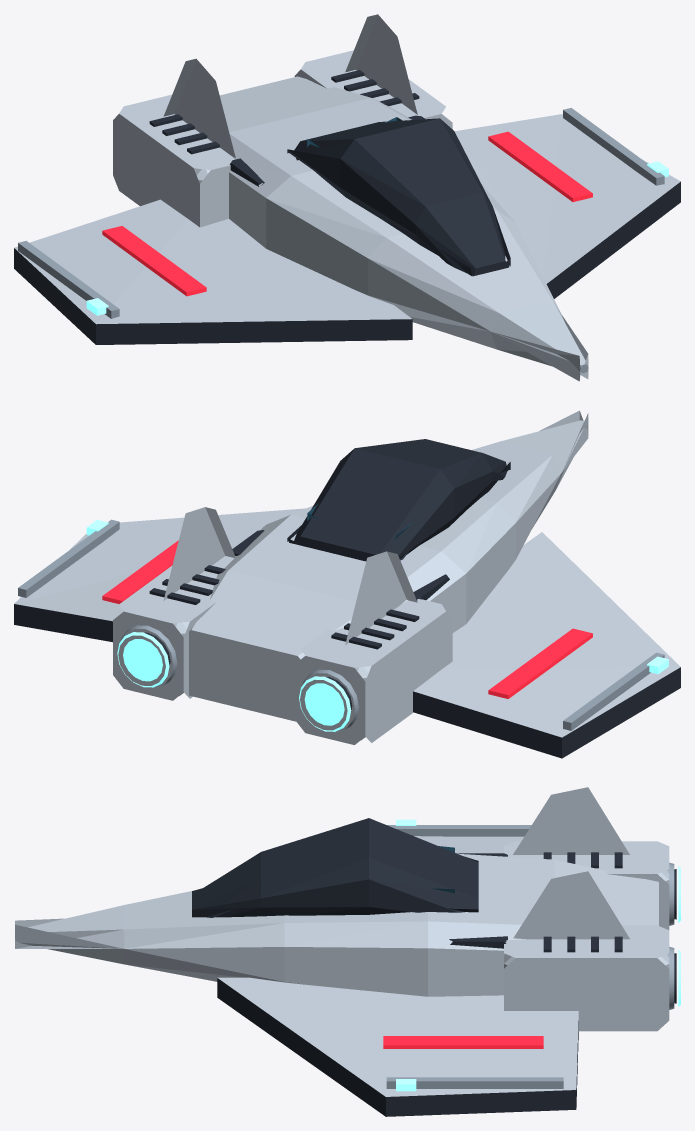
File: pathfinder.glb
The picture shows the model from 3 angles, top to bottom: view 1: azimuth 30°, elevation 25°; view 2: azimuth 150°, elevation 25°; view 3: azimuth 270°, elevation 25°; orthographic projection. The views are drawn at different scales.
Visible parts, largest first — view 1: Hull; view 2: Hull; view 3: Hull.
Part boxes in pixels (x1=…): Hull: x1=14, y1=14, x2=680, y2=381; Hull: x1=14, y1=410, x2=680, y2=758; Hull: x1=15, y1=787, x2=680, y2=1116.
Size of the model in its own units: 3.8 by 0.99 by 3.96.
